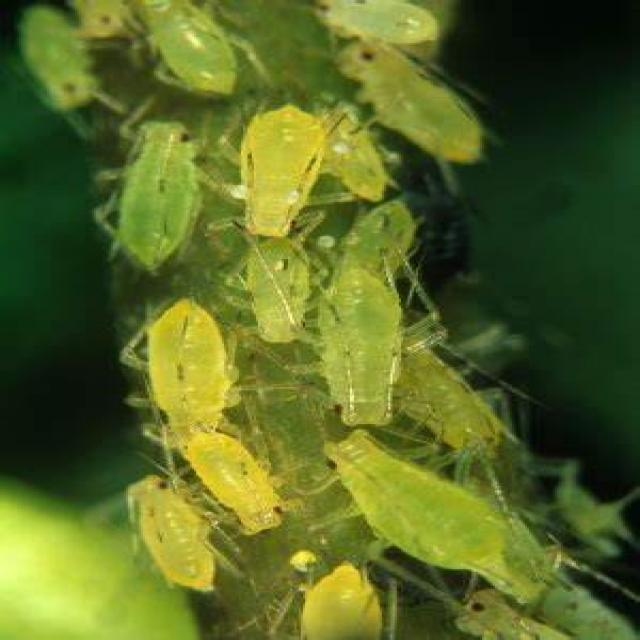Aphids: (71, 0, 628, 640)
